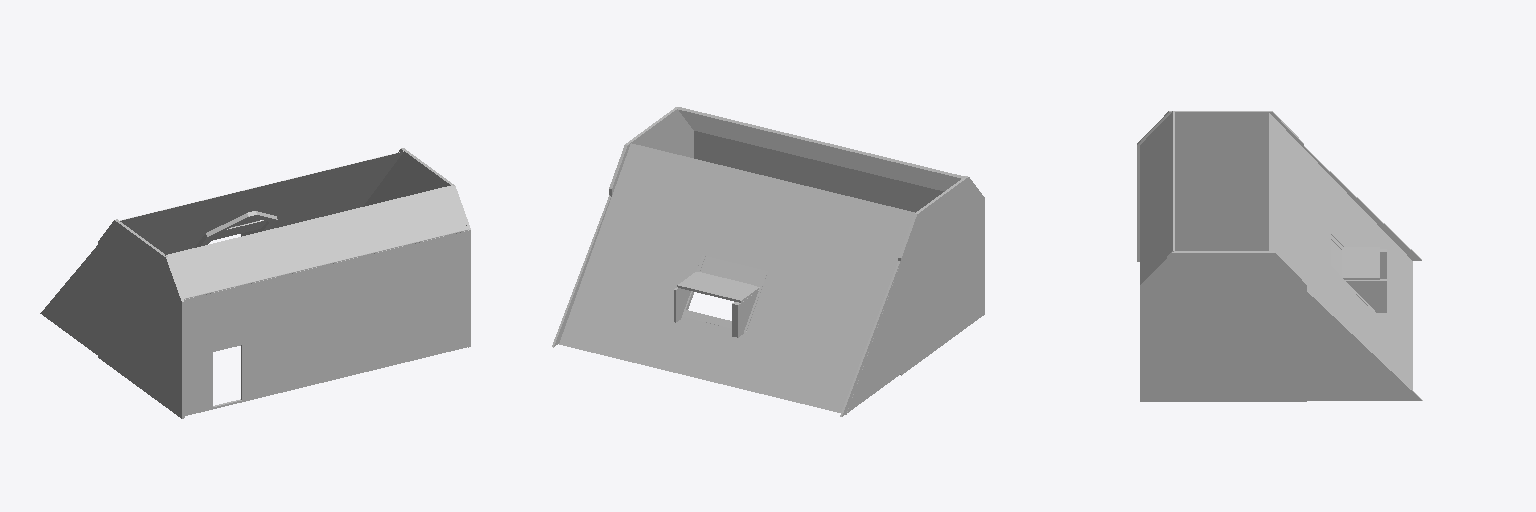
Rendered from cuarto_phineas_paredes.obj.
3 views of the same model, side by side, from view 1: azimuth 30°, elevation 25°; view 2: azimuth 150°, elevation 25°; view 3: azimuth 270°, elevation 25° (orthographic).
Visible parts, largest first — view 1: pCylinder12, polySurface276; view 2: pCylinder12, polySurface276; view 3: pCylinder12.
Boxes of the visible parts, x1=… form: pCylinder12: x1=40, y1=148, x2=470, y2=418; polySurface276: x1=195, y1=211, x2=277, y2=247; pCylinder12: x1=552, y1=107, x2=984, y2=416; polySurface276: x1=682, y1=255, x2=767, y2=331; pCylinder12: x1=1137, y1=111, x2=1422, y2=401.
Size of the model in its own units: 6.2 by 3.06 by 5.26.